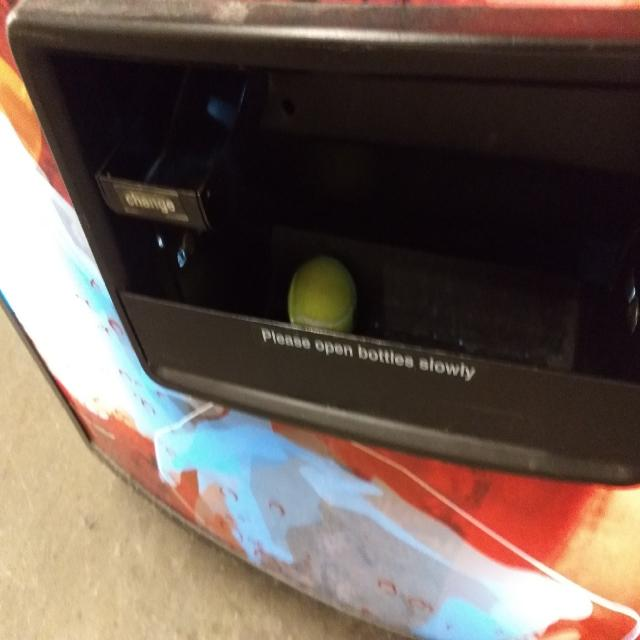Tennis-Ball: (288, 258, 357, 333)
